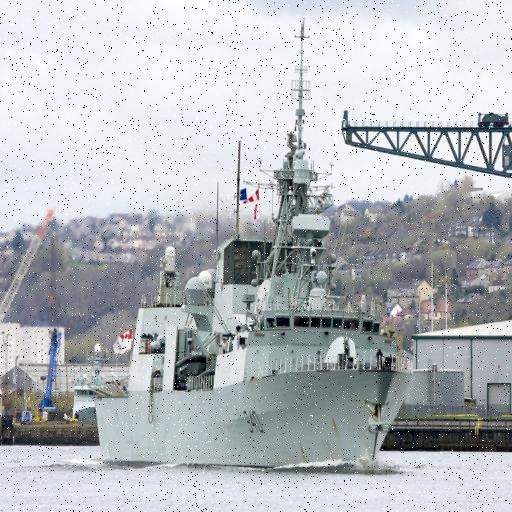Fragata: (86, 4, 417, 471)
